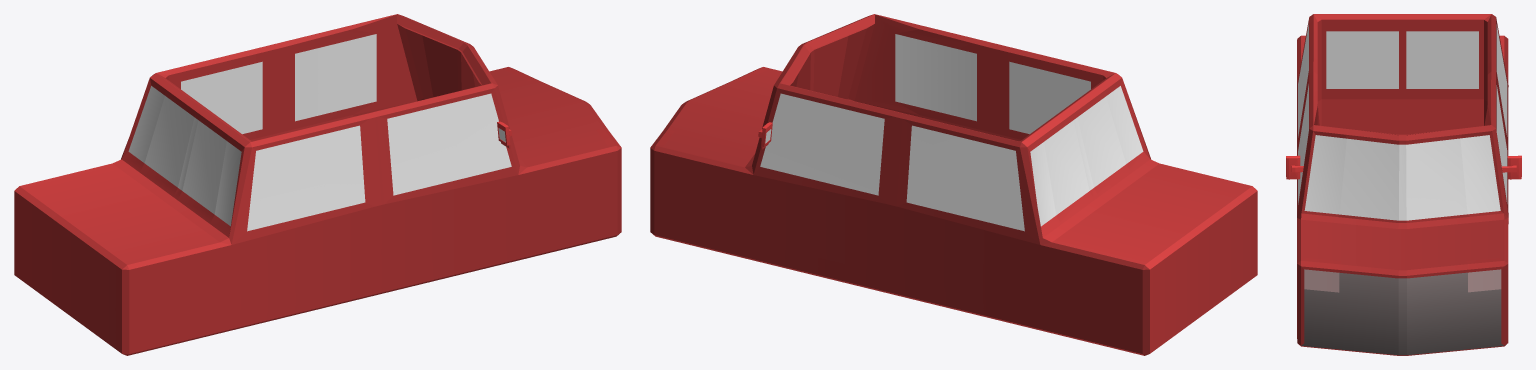
Rendered from car.fbx.
3 views of the same model, side by side, from view 1: azimuth 30°, elevation 25°; view 2: azimuth 150°, elevation 25°; view 3: azimuth 270°, elevation 25° (orthographic). The views are drawn at different scales.
Parts seen in each view (by area): view 1: Cube.017; view 2: Cube.017; view 3: Cube.017.
Boxes of the visible parts, x1,y1,x2,y2 form: Cube.017: (14, 14, 621, 355); Cube.017: (650, 14, 1257, 355); Cube.017: (1286, 14, 1521, 355).
Size of the model in its own units: 537 by 175 by 223.
